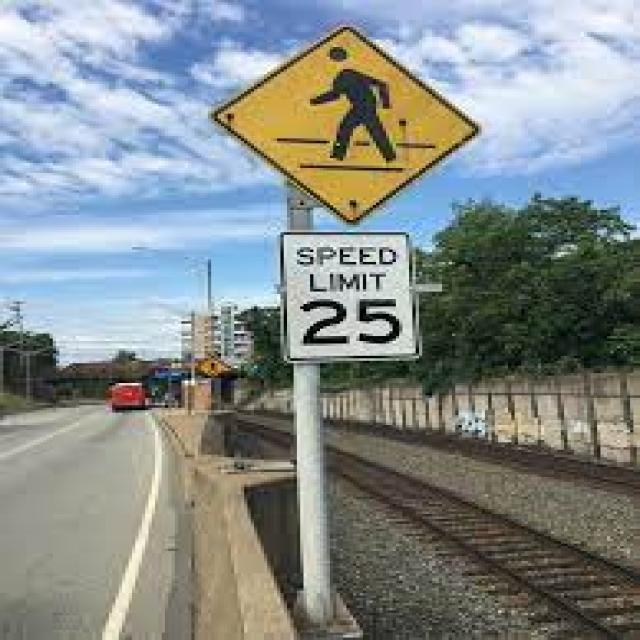speedLimit25: (275, 231, 414, 360)
